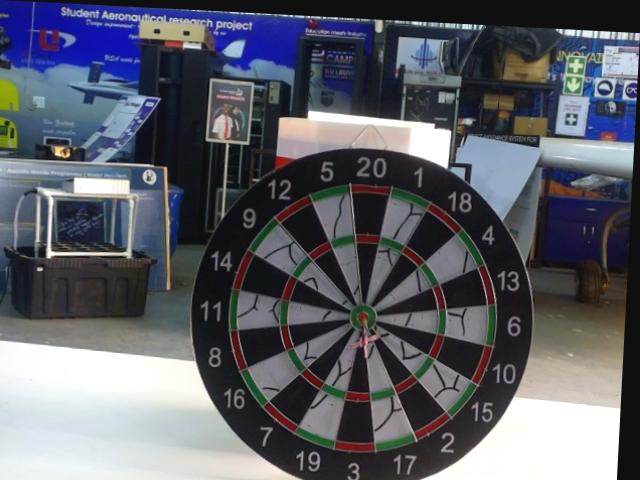bullseye: (359, 313, 371, 329)
